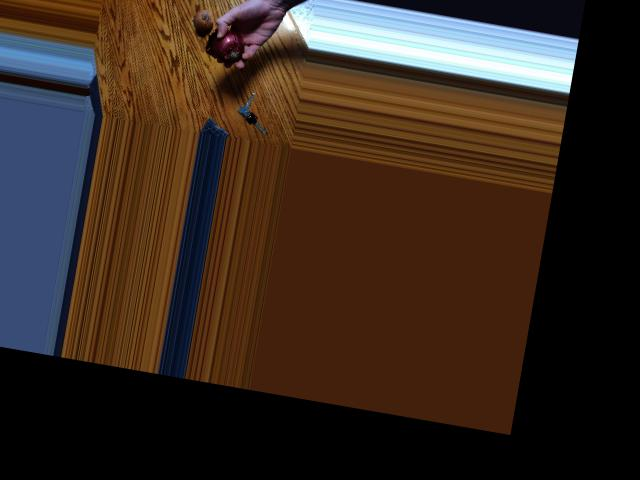onion: (189, 5, 216, 31)
